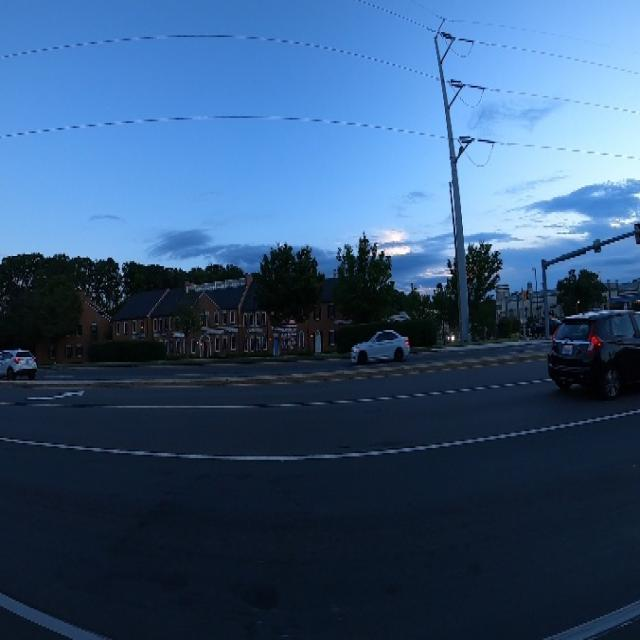car: (541, 299, 640, 409), (347, 324, 414, 373), (0, 328, 43, 389)
